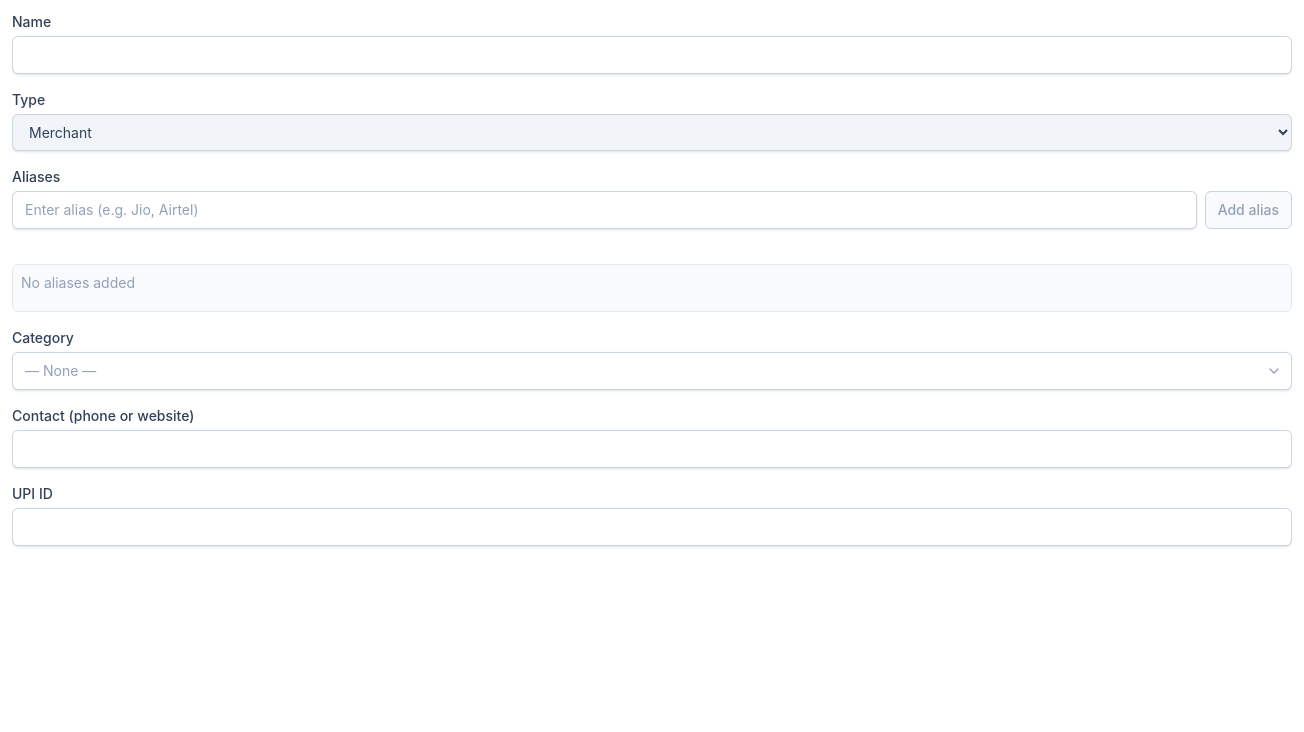
Test: BeneficiaryFormFields › selecting a category surfaces it as an assigned-tag chip
Focus the dropdown labelled "Category" at (652, 371), box [12, 352, 1292, 390]
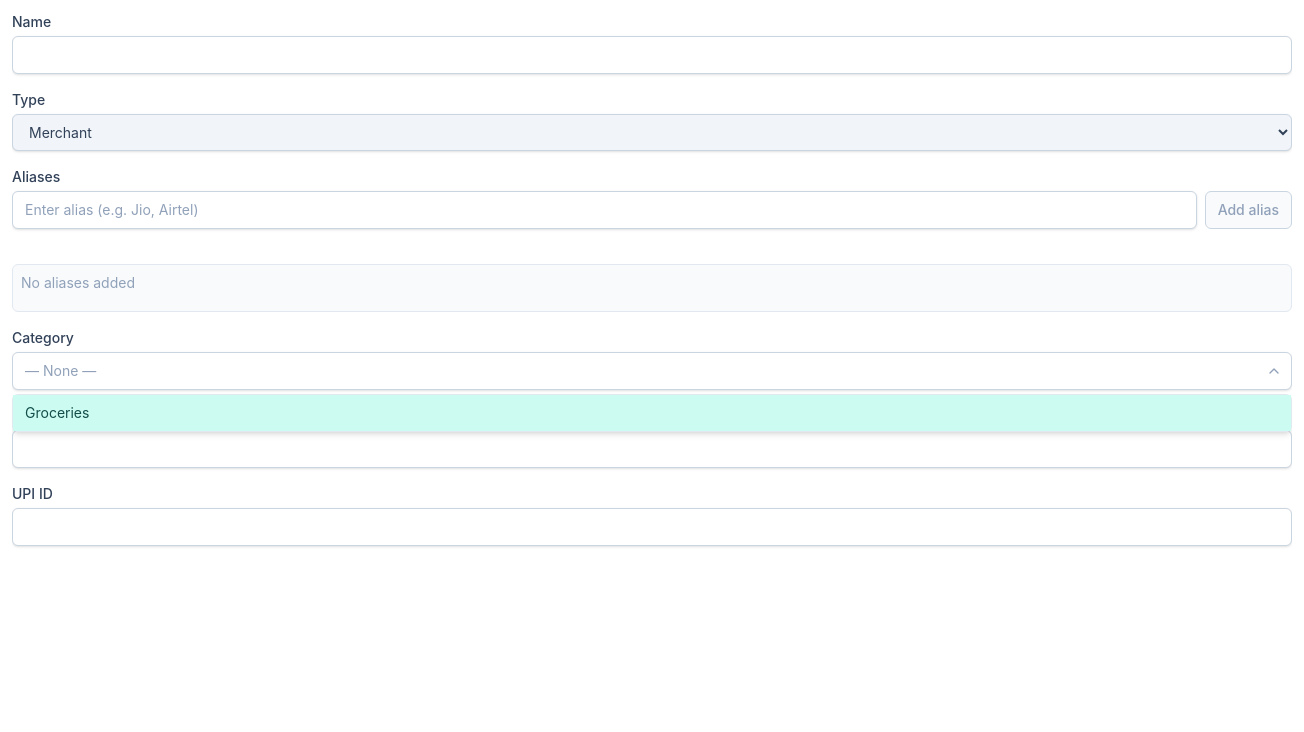
Press the mouse on the option "Groceries" at (57, 413), box [13, 395, 1291, 431]
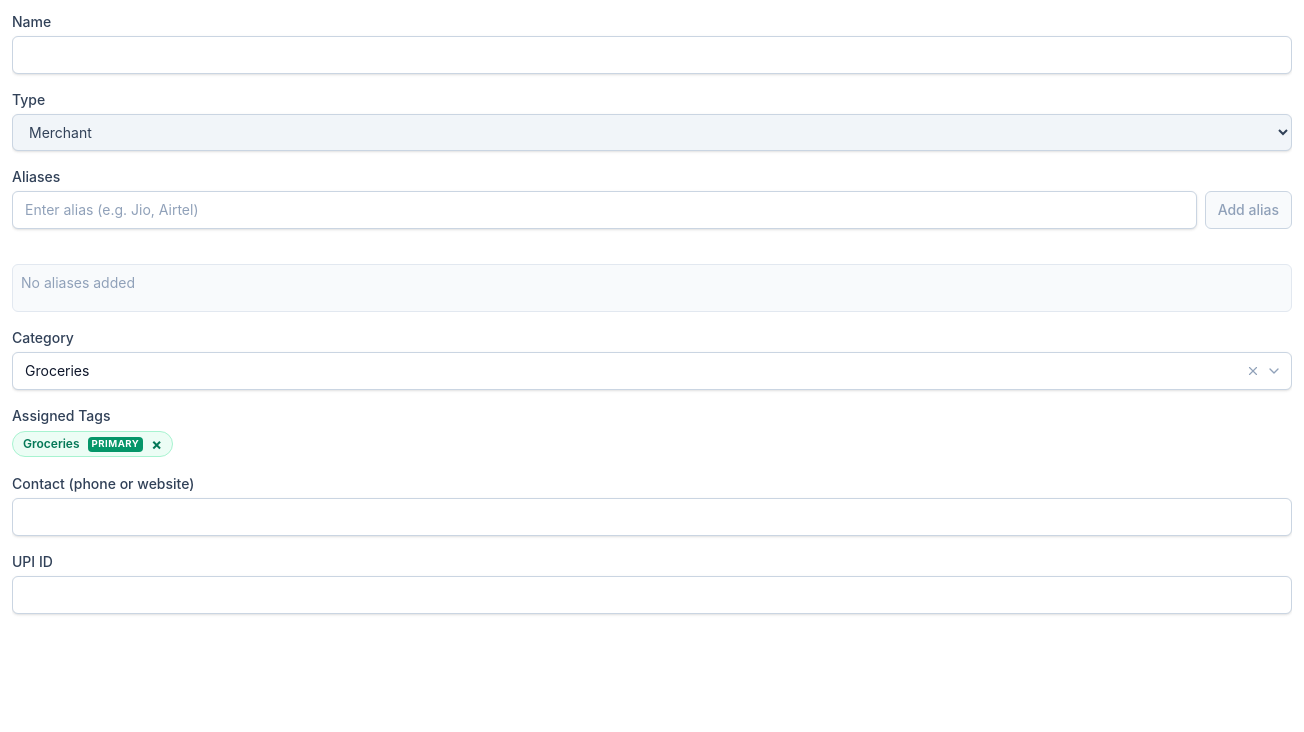
Now the text "Assigned Tags" is shown, box [12, 407, 110, 424]
Now the button named "Remove tag Groceries" is shown, box [151, 436, 162, 452]
